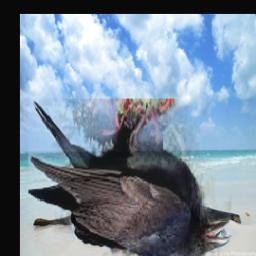Crow: (28, 99, 231, 256)
